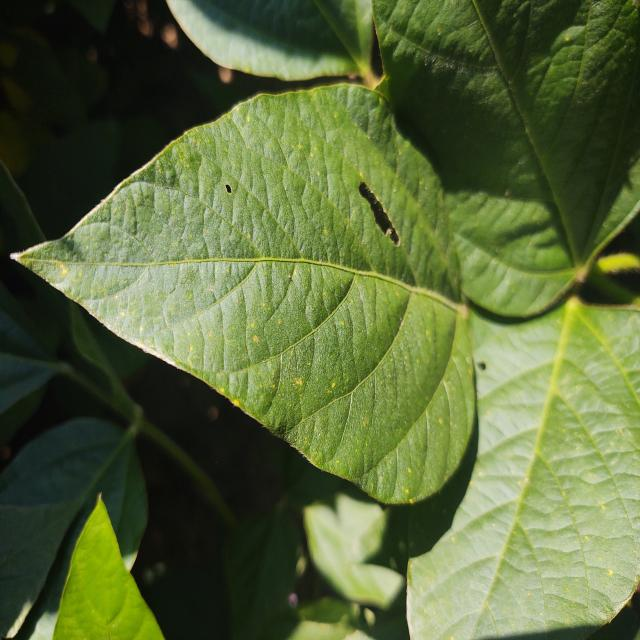Soybean: (0, 0, 640, 640)
downey_mildew: (572, 2, 640, 276), (317, 284, 429, 448), (411, 83, 527, 195), (194, 160, 305, 268), (270, 206, 350, 342), (564, 300, 639, 438), (60, 415, 141, 526), (291, 98, 354, 230), (470, 323, 561, 413), (458, 194, 567, 269), (428, 494, 532, 572), (65, 307, 141, 410), (565, 520, 640, 624), (89, 250, 182, 332), (462, 1, 536, 100), (523, 447, 593, 547), (397, 161, 449, 294), (390, 103, 459, 198), (3, 549, 72, 640), (512, 512, 557, 638), (0, 366, 59, 460), (466, 280, 587, 324), (458, 453, 533, 522), (565, 1, 598, 130), (218, 273, 259, 374), (178, 263, 254, 316), (325, 561, 398, 610), (105, 577, 160, 640), (16, 239, 92, 278), (367, 1, 393, 95), (108, 222, 161, 265), (97, 554, 129, 624), (300, 51, 359, 83), (403, 488, 415, 628), (77, 258, 216, 269), (123, 192, 139, 235), (102, 571, 111, 637)
